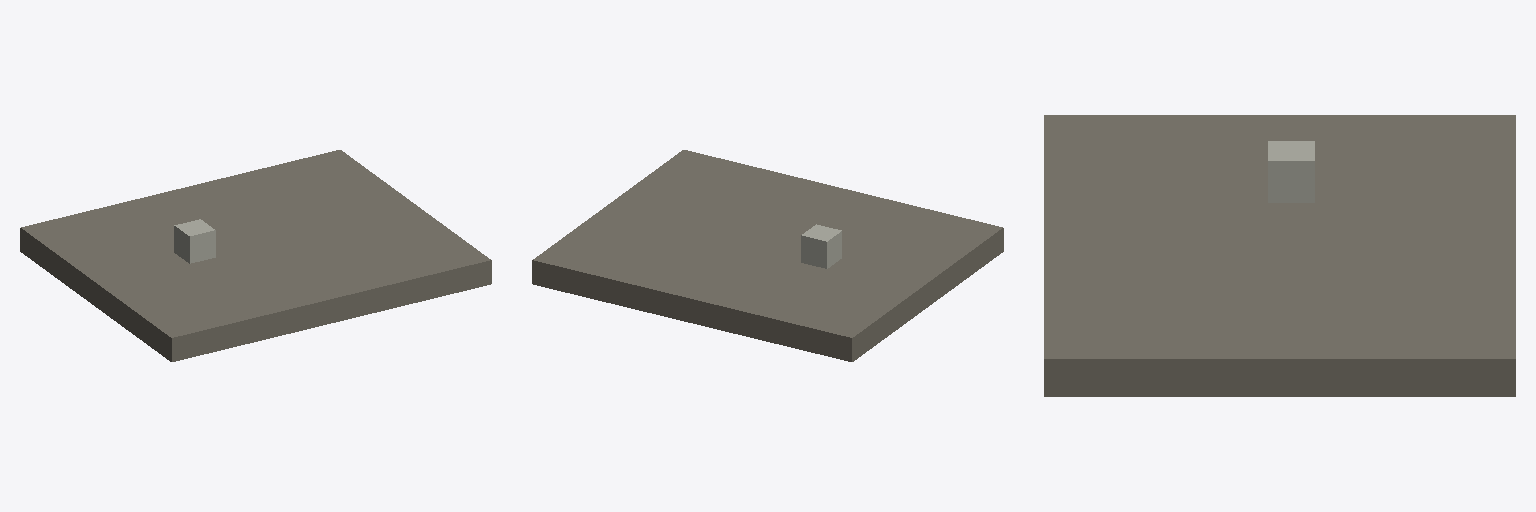
robot.urdf — parttoolgen_hammer_single_cube:
<?xml version="1.0"?>
<robot name="parttoolgen_hammer_single_cube">
  <link name="table_with_target_cube">
    <visual>
      <material name="wood">
        <color rgba="0.52 0.50 0.46 1.0"/>
      </material>
      <origin xyz="0 0 0"/>
      <geometry>
        <box size="0.55 0.45 0.04"/>
      </geometry>
    </visual>
    <collision>
      <origin xyz="0 0 0"/>
      <geometry>
        <box size="0.55 0.45 0.04"/>
      </geometry>
    </collision>

    <visual>
      <material name="target_cube">
        <color rgba="0.72 0.72 0.68 1.0"/>
      </material>
      <origin xyz="-0.09858428810215288 0.010612057611485842 0.042499999999999996"/>
      <geometry>
        <box size="0.045 0.045 0.045"/>
      </geometry>
    </visual>
    <collision>
      <origin xyz="-0.09858428810215288 0.010612057611485842 0.042499999999999996"/>
      <geometry>
        <box size="0.045 0.045 0.045"/>
      </geometry>
    </collision>

    <inertial>
      <mass value="500"/>
      <friction value="1.0"/>
      <inertia ixx="1000.0" ixy="0.0" ixz="0.0" iyy="1000.0" iyz="0.0" izz="1000.0"/>
    </inertial>
  </link>
</robot>

--- Facts derived from the render (not from the file) ---
Views: 3 orthographic renders of the robot side by side, from view 1: azimuth 30°, elevation 25°; view 2: azimuth 150°, elevation 25°; view 3: azimuth 270°, elevation 25°.
Robot: parttoolgen_hammer_single_cube — 1 links, 0 joints (none); root link table_with_target_cube; default pose: all joints at 0.
Links seen in each view (by area): view 1: table_with_target_cube; view 2: table_with_target_cube; view 3: table_with_target_cube.
Link boxes in pixels (x1,y1,x2,y2): table_with_target_cube: (20,150,491,361); table_with_target_cube: (532,150,1003,361); table_with_target_cube: (1044,115,1515,396).
Bounding box of the posed robot: 0.55 × 0.45 × 0.085 m (x, y, z).
Geometry: primitives only (box / cylinder / sphere), no mesh files.
